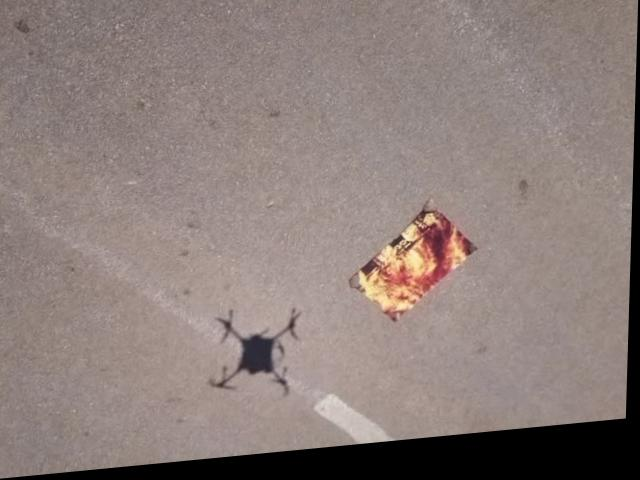fire-poster: (349, 205, 481, 337)
